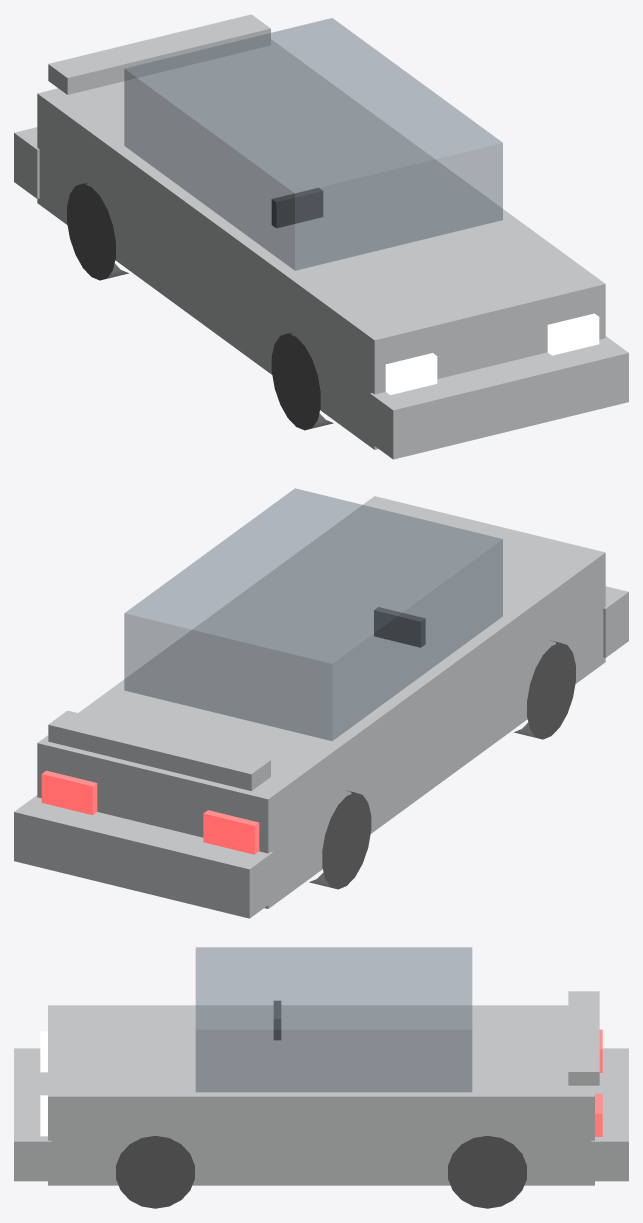
The model's file is bmwe30.glb.
The picture shows the model from 3 angles, top to bottom: view 1: azimuth 30°, elevation 25°; view 2: azimuth 150°, elevation 25°; view 3: azimuth 270°, elevation 25°; orthographic projection. The views are drawn at different scales.
Parts seen in each view (by area): view 1: Body_Main, Cabin_Glass, Front_Bumper, Trunk_Spoiler, Wheel_FL, Wheel_RL, Headlight_R, Headlight_L, Interior_SteeringWheel, Rear_Bumper; view 2: Body_Main, Cabin_Glass, Rear_Bumper, Trunk_Spoiler, Wheel_RL, Wheel_FL, Taillight_L, Taillight_R, Interior_SteeringWheel, Front_Bumper; view 3: Body_Main, Cabin_Glass, Wheel_FR, Wheel_RR, Front_Bumper, Rear_Bumper, Trunk_Spoiler.
Part boxes in pixels (box(x1,y1,x2,y2)): Body_Main: box(37, 39, 605, 449); Cabin_Glass: box(124, 18, 502, 270); Front_Bumper: box(370, 336, 628, 459); Trunk_Spoiler: box(48, 14, 270, 94); Wheel_FL: box(271, 331, 333, 430); Wheel_RL: box(67, 181, 128, 280); Headlight_R: box(547, 313, 599, 355); Headlight_L: box(385, 353, 437, 394); Interior_SteeringWheel: box(271, 187, 323, 228); Rear_Bumper: box(14, 127, 39, 198); Body_Main: box(37, 496, 605, 908); Cabin_Glass: box(124, 488, 502, 740); Rear_Bumper: box(14, 795, 272, 918); Trunk_Spoiler: box(48, 710, 270, 790); Wheel_RL: box(309, 790, 371, 889); Wheel_FL: box(514, 640, 575, 739); Taillight_L: box(203, 810, 259, 854); Taillight_R: box(41, 770, 97, 815); Interior_SteeringWheel: box(374, 607, 425, 647); Front_Bumper: box(603, 586, 628, 657); Body_Main: box(48, 1005, 594, 1185); Cabin_Glass: box(195, 947, 472, 1092); Wheel_FR: box(116, 1136, 194, 1208); Wheel_RR: box(448, 1136, 526, 1208); Front_Bumper: box(14, 1048, 51, 1181); Rear_Bumper: box(591, 1048, 628, 1181); Trunk_Spoiler: box(568, 991, 599, 1085).
Size of the model in its own units: 1.9 by 1.49 by 4.89.
